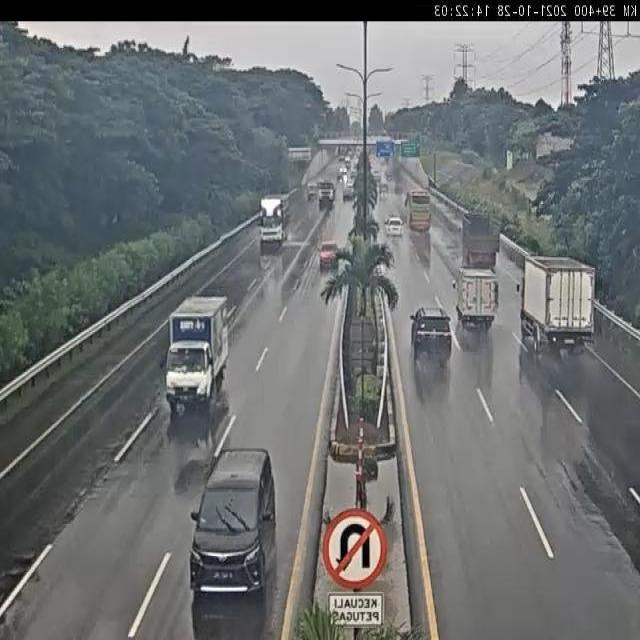Bus: (404, 189, 435, 234)
Car: (188, 446, 278, 597), (410, 306, 454, 367), (316, 239, 341, 271), (384, 216, 406, 238)
Truck: (515, 253, 599, 355), (167, 294, 233, 412), (451, 266, 499, 330), (458, 210, 502, 269), (258, 192, 292, 245), (318, 179, 336, 204), (306, 181, 319, 199)
